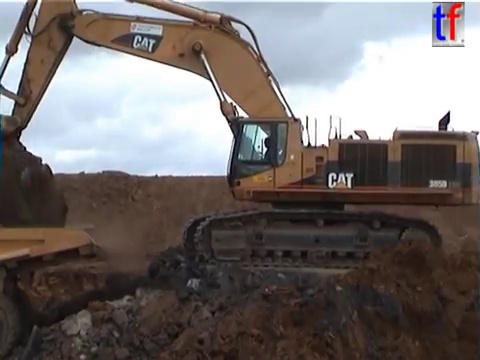excavator: (1, 1, 480, 273)
truck: (1, 222, 103, 360)
